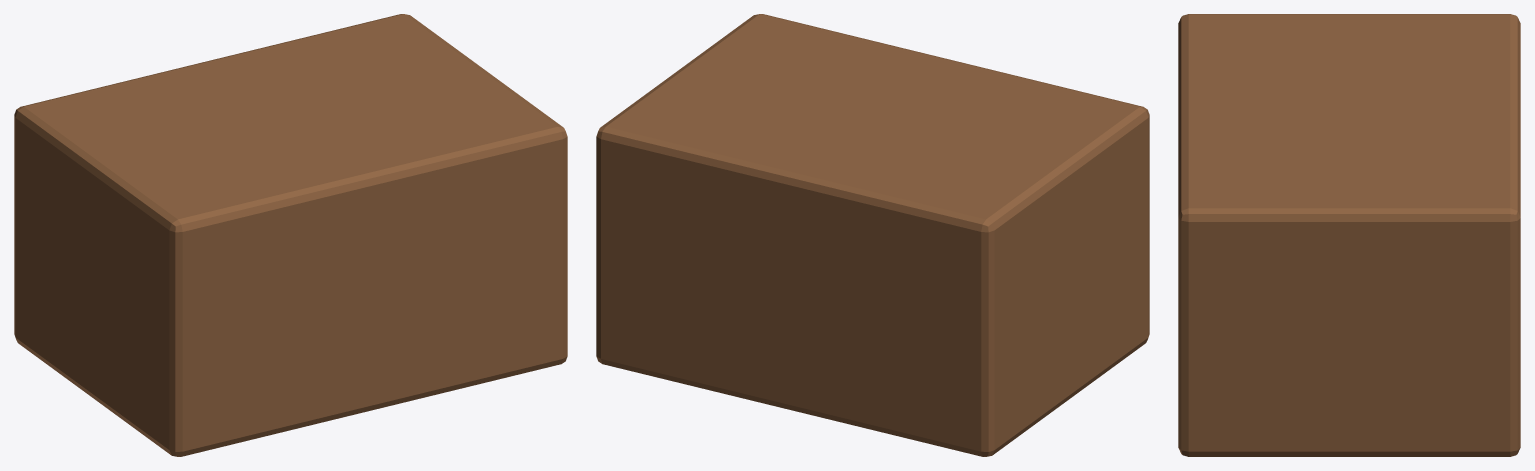
File: Prop_Street_024.glb
3 renders of one model, left to right at view 1: azimuth 30°, elevation 25°; view 2: azimuth 150°, elevation 25°; view 3: azimuth 270°, elevation 25°, orthographic. The views are drawn at different scales.
Parts seen in each view (by area): view 1: Prop_Street_024; view 2: Prop_Street_024; view 3: Prop_Street_024.
Part boxes in pixels (x1,y1,x2,y2): Prop_Street_024: (14,14,567,456); Prop_Street_024: (596,14,1149,456); Prop_Street_024: (1178,14,1520,456).
Size of the model in its own units: 1.4 by 0.8 by 1.
